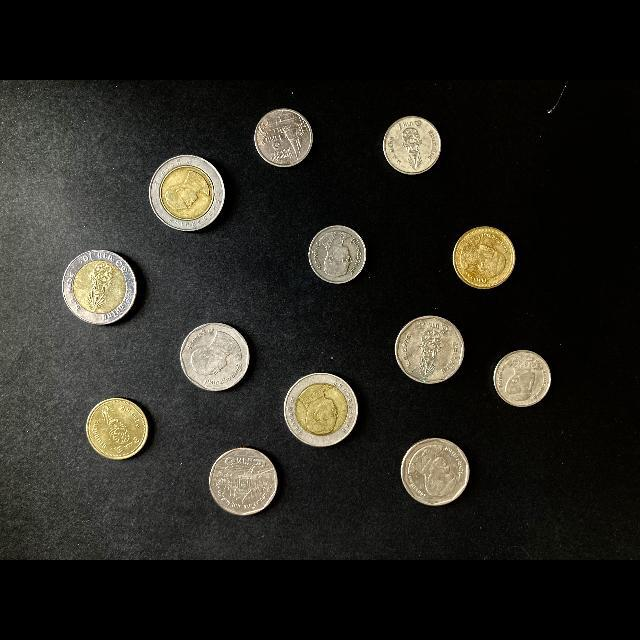1 Bath: (380, 115, 446, 182), (307, 224, 369, 288), (493, 348, 554, 411), (255, 108, 315, 169)
10 Bath: (147, 153, 228, 236), (63, 247, 142, 329), (283, 373, 362, 450)
2 Bath: (84, 399, 152, 464), (452, 227, 519, 290)
5 Bath: (396, 314, 466, 388), (181, 324, 252, 396), (403, 439, 473, 512), (207, 449, 279, 519)
